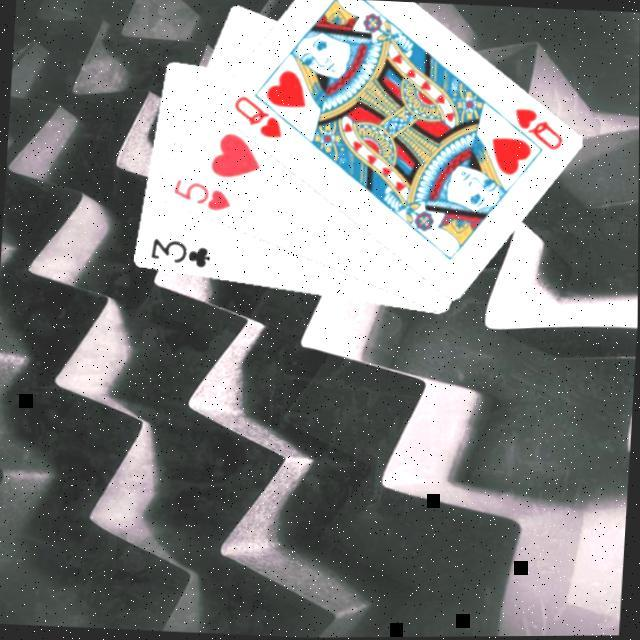3C: (146, 235, 213, 272)
5H: (168, 176, 234, 217)
QH: (493, 105, 566, 159), (227, 92, 286, 144)
